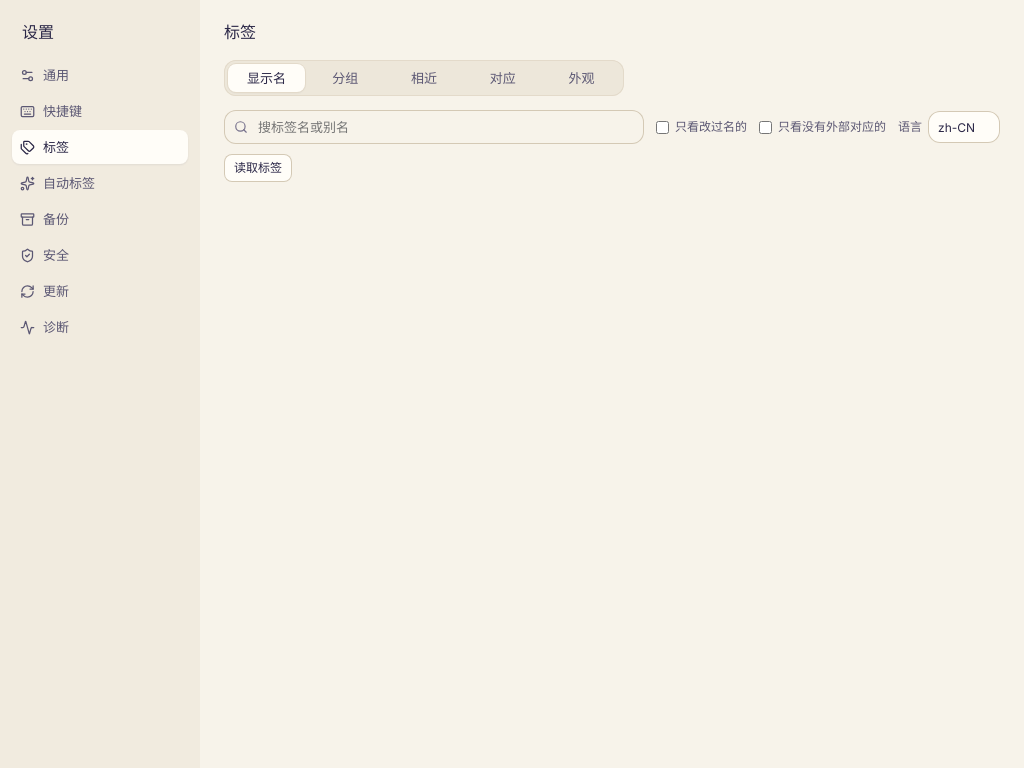
设置：近似查找 › 程序设置中列出全局个人近似对应表，可以删除
Click the button "相近" at (424, 78), box [386,64,462,92]
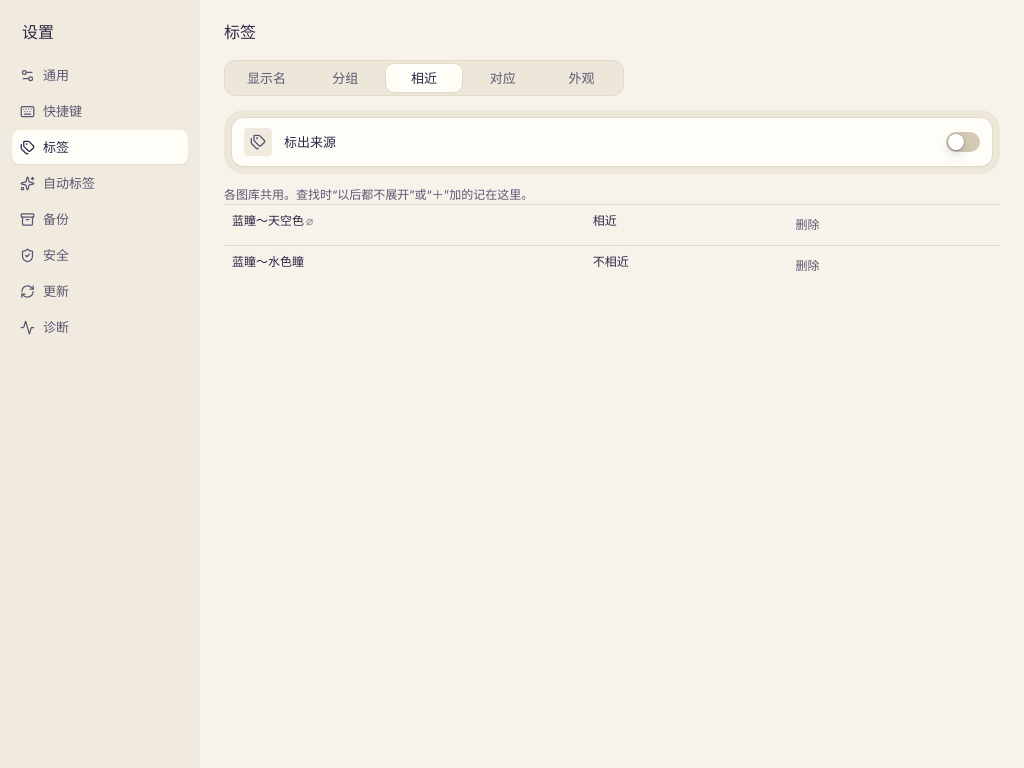
Expected: the rows read "蓝瞳～天空色相近删除", "蓝瞳～水色瞳不相近删除", in this order, [224,204,1000,246]; [224,246,1000,286]
Expected: the number of pictures named "没有外部对应，不参与内置近似对应表" is 1, [304,213,313,228]
Click the button "删除" in the row of "水色瞳" at (808, 266), box [786,252,830,280]
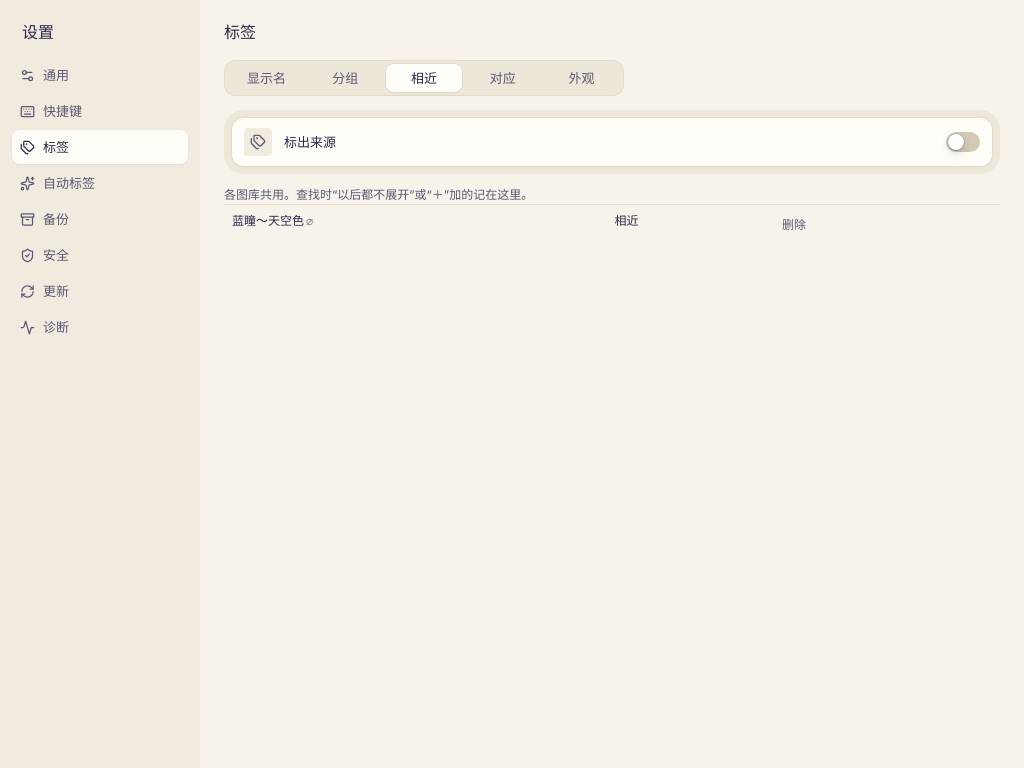
Expected: the number of rows is 1, [224,204,1000,245]
